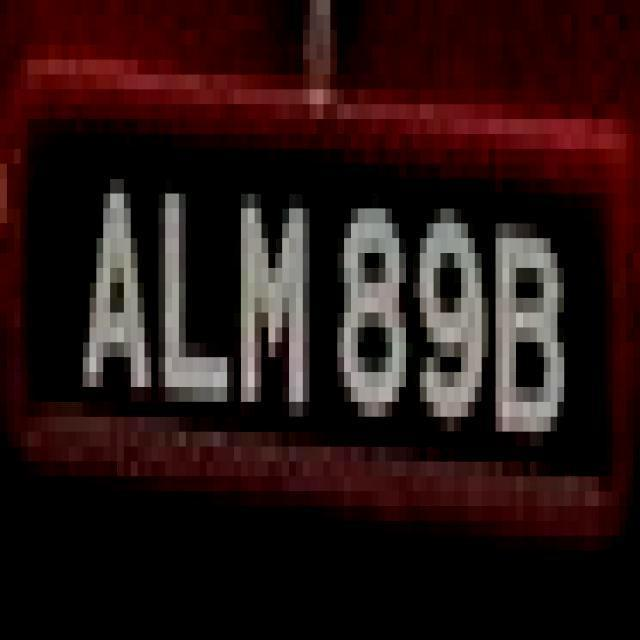LicensePlate: (8, 57, 618, 544)
